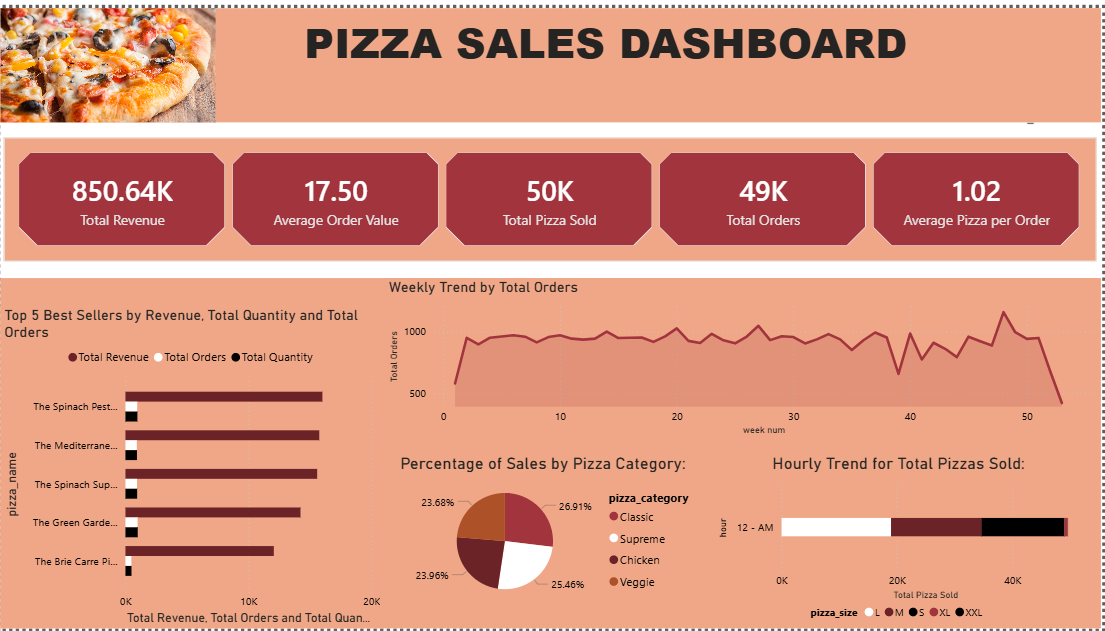

The page's visual inventory and layout, read from the dashboard file:
{"tool":"powerbi","page":{"name":"Page 1","canvas":[1280,720],"ordinal":0},"visuals":[{"type":"textbox","box":[0,313,1278.3,406.5],"z":0},{"type":"cardVisual","fields":{"Data":["DB Measures.Total Revenue","DB Measures.Average Order Value","DB Measures.Total Pizza Sold","DB Measures.Total Orders","DB Measures.Average Pizza per Order"]},"box":[4.3,150,1269.6,143.5],"z":1000},{"type":"barChart","title":"Hourly Trend for Total Pizzas Sold:","fields":{"Category":["Date Table.hour"],"Y":["DB Measures.Total Pizza Sold"],"Series":["pizza_sales (1).pizza_size"]},"box":[828.3,517.4,428.3,202.2],"z":2000},{"type":"lineChart","title":"Weekly Trend by Total Orders","fields":{"Category":["Date Table.week num"],"Y":["DB Measures.Total Orders"]},"box":[445.7,313,828.3,187],"z":3000},{"type":"pieChart","title":"Percentage of Sales by Pizza Category:","fields":{"Y":["Sum(pizza_sales (1).Sales)"],"Category":["pizza_sales (1).pizza_category"]},"box":[458.7,517.4,360.9,180.4],"z":4000},{"type":"clusteredBarChart","title":"Top 5 Best Sellers by Revenue, Total Quantity and Total Orders","fields":{"Category":["pizza_sales (1).pizza_name"],"Y":["DB Measures.Total Revenue","DB Measures.Total Orders","DB Measures.Total Quantity"]},"box":[0,345.7,445.7,373.9],"z":5000},{"type":"textbox","box":[0,0,1278.3,132.6],"z":6000},{"type":"image","box":[0,0,250,132.6],"z":7000}]}

Visuals, with their boxes in screenshot pixels (x1, y1, x2, y2), scaled from the page's 1280x720 canvas onto the 1105x631 screenshot:
textbox: x1=0 y1=274 x2=1104 y2=630
cardVisual - DB Measures.Total Revenue x DB Measures.Average Order Value: x1=4 y1=131 x2=1100 y2=257
"Hourly Trend for Total Pizzas Sold:" barChart: x1=715 y1=453 x2=1085 y2=630
"Weekly Trend by Total Orders" lineChart: x1=385 y1=274 x2=1100 y2=438
"Percentage of Sales by Pizza Category:" pieChart: x1=396 y1=453 x2=708 y2=612
"Top 5 Best Sellers by Revenue, Total Quantity and Total Orders" clusteredBarChart: x1=0 y1=303 x2=385 y2=630
textbox: x1=0 y1=0 x2=1104 y2=116
image: x1=0 y1=0 x2=216 y2=116
